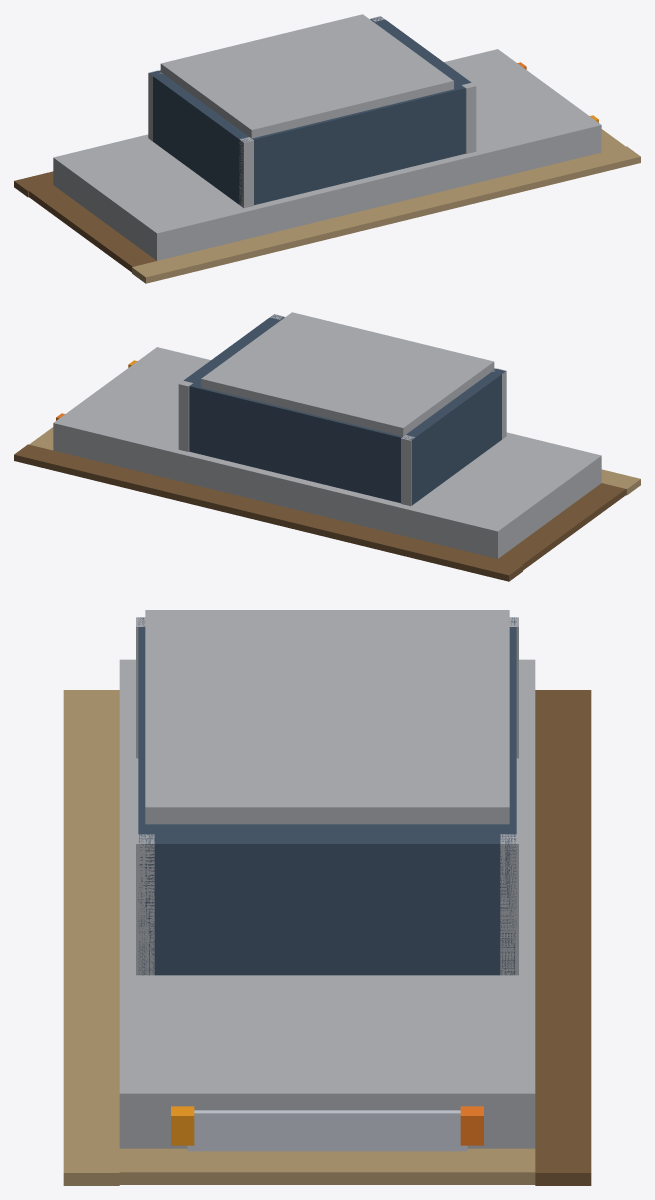
The model's file is auto_inundado_1.obj.
3 views of the same model, one above another, from view 1: azimuth 30°, elevation 25°; view 2: azimuth 150°, elevation 25°; view 3: azimuth 270°, elevation 25° (orthographic). The views are drawn at different scales.
Parts seen in each view (by area): view 1: auto_inundado_1; view 2: auto_inundado_1; view 3: auto_inundado_1.
Boxes of the visible parts, bbox=[...] form: auto_inundado_1: bbox=[14, 14, 640, 283]; auto_inundado_1: bbox=[14, 312, 640, 581]; auto_inundado_1: bbox=[63, 610, 591, 1185].
Bounding box in the file's own units: 4.9 × 1.02 × 2.26.
